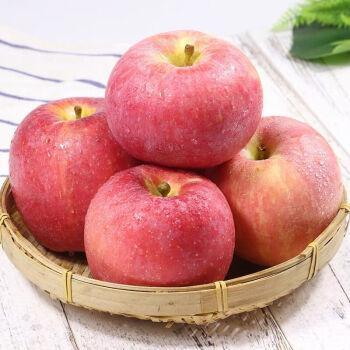apple: (101, 31, 263, 169), (6, 96, 138, 252), (208, 114, 342, 267), (82, 166, 237, 288)
